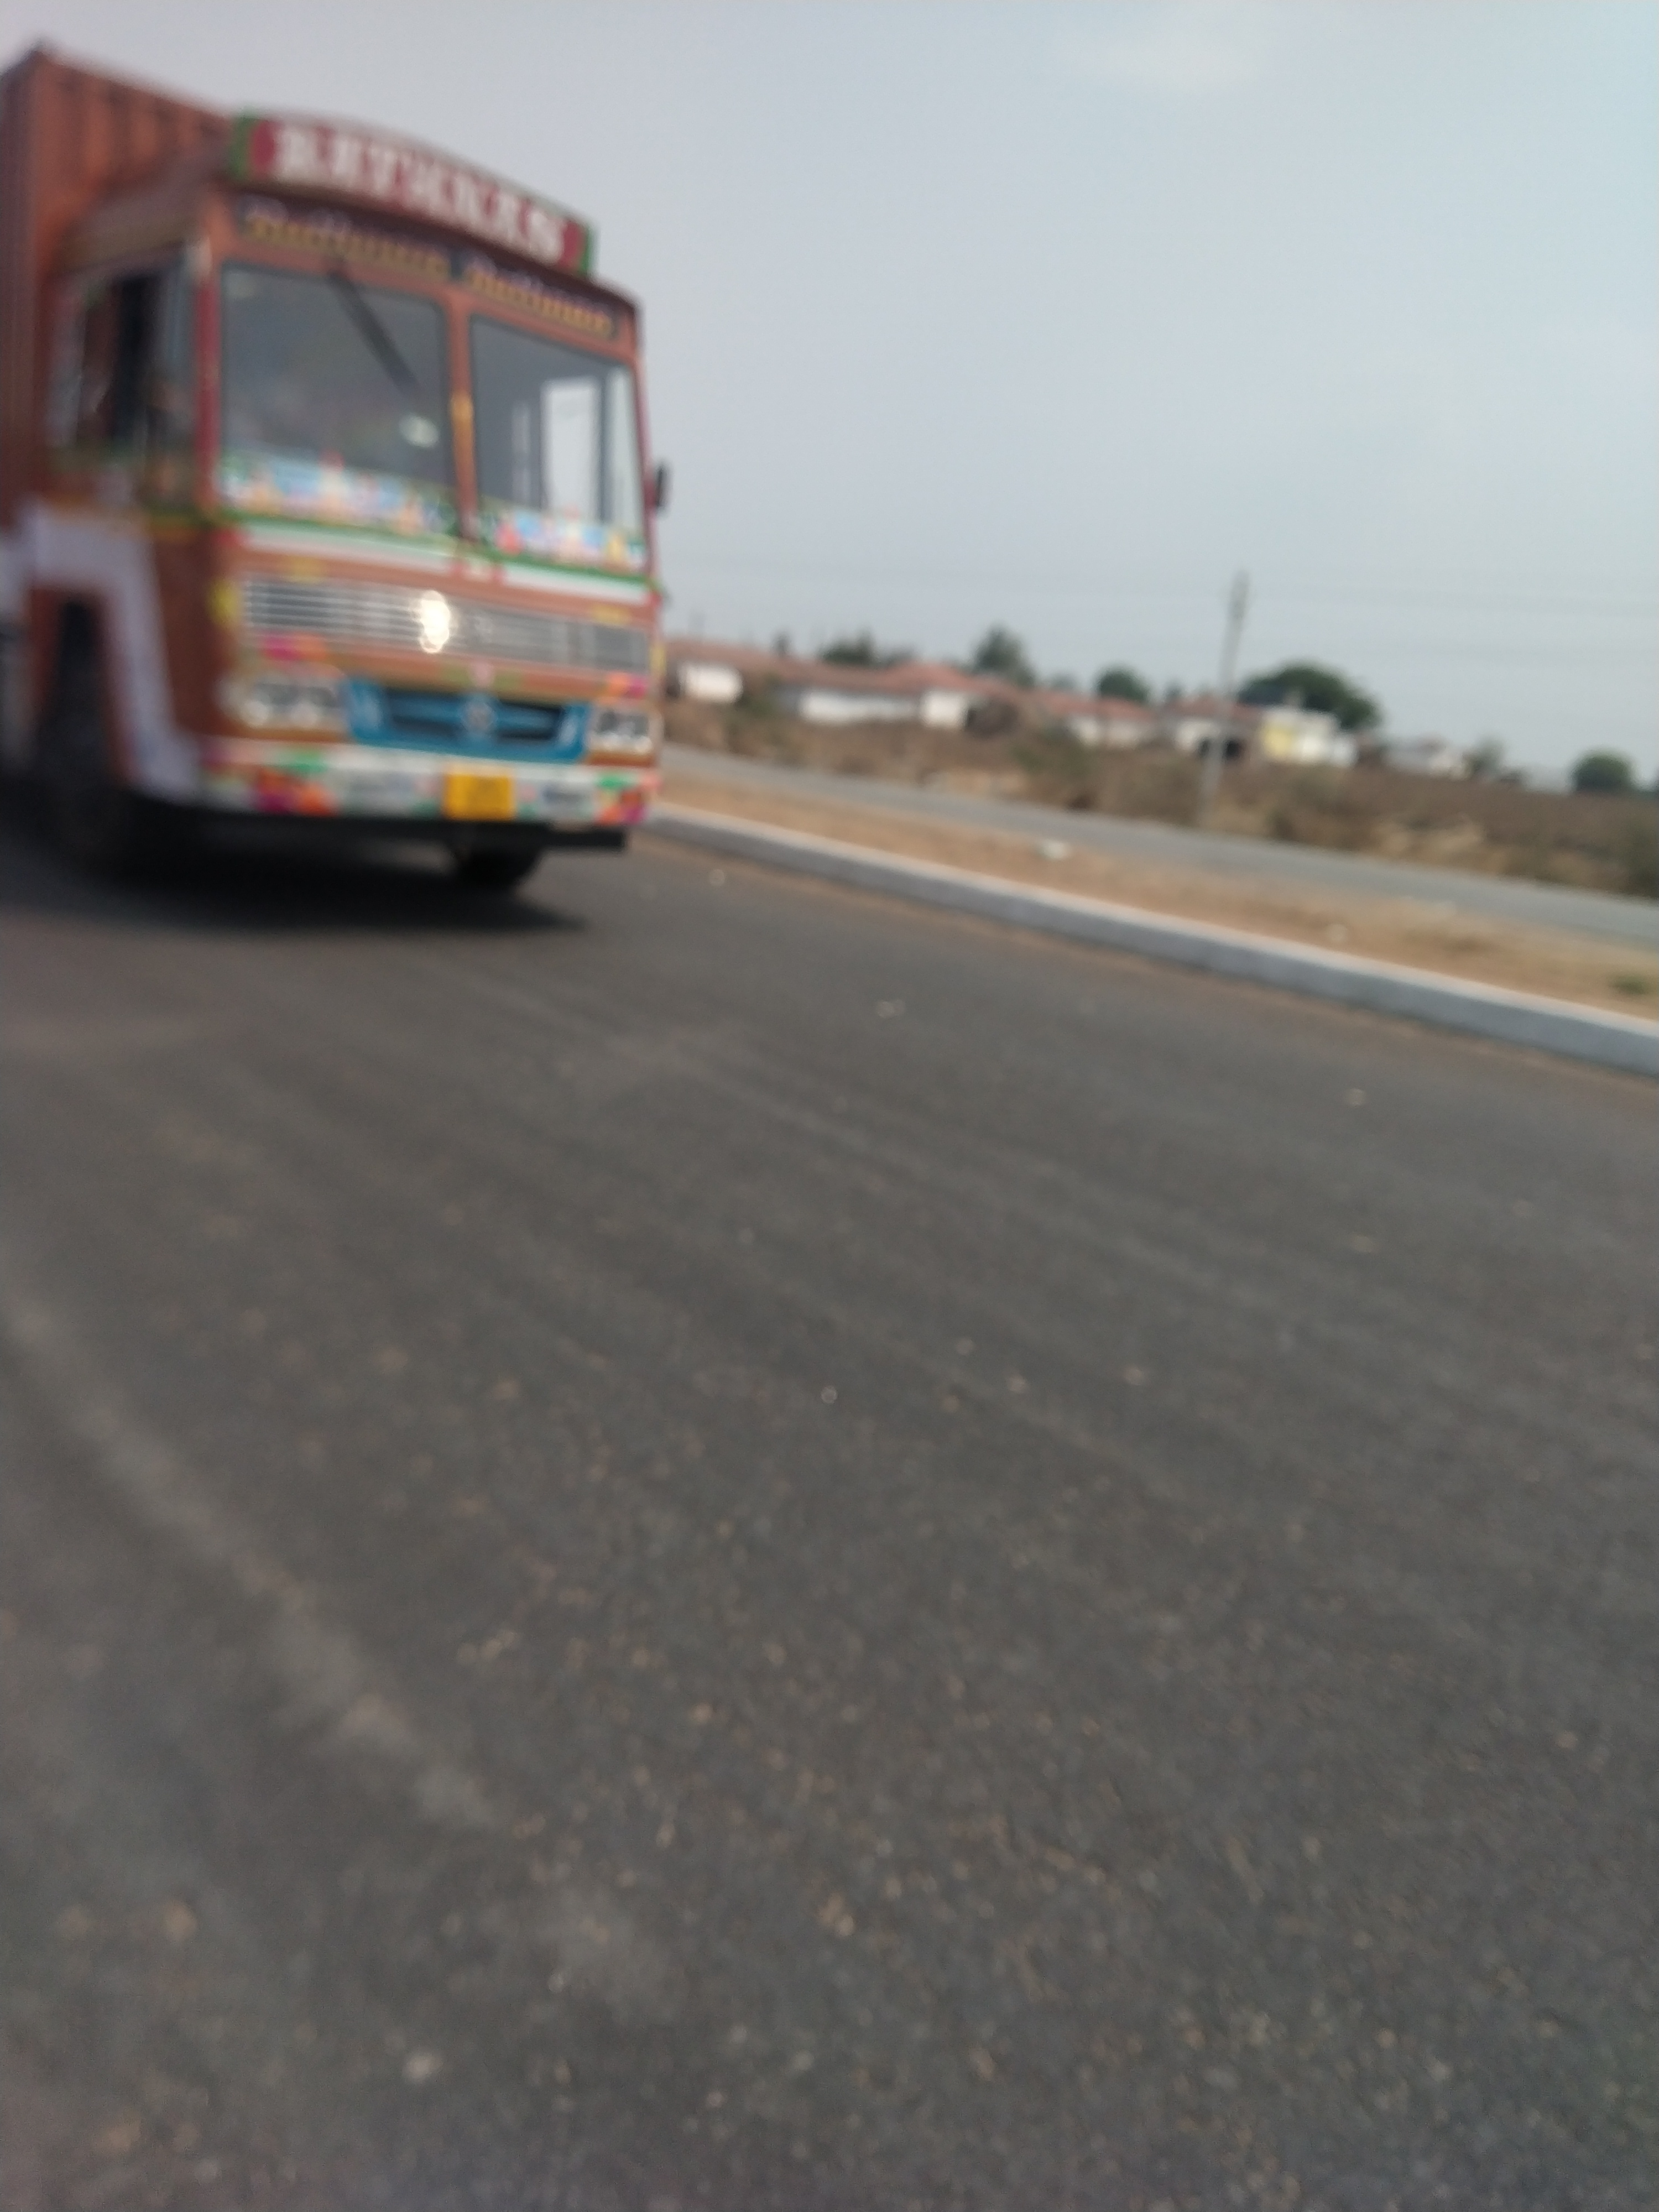truck: (0, 30, 674, 895)
